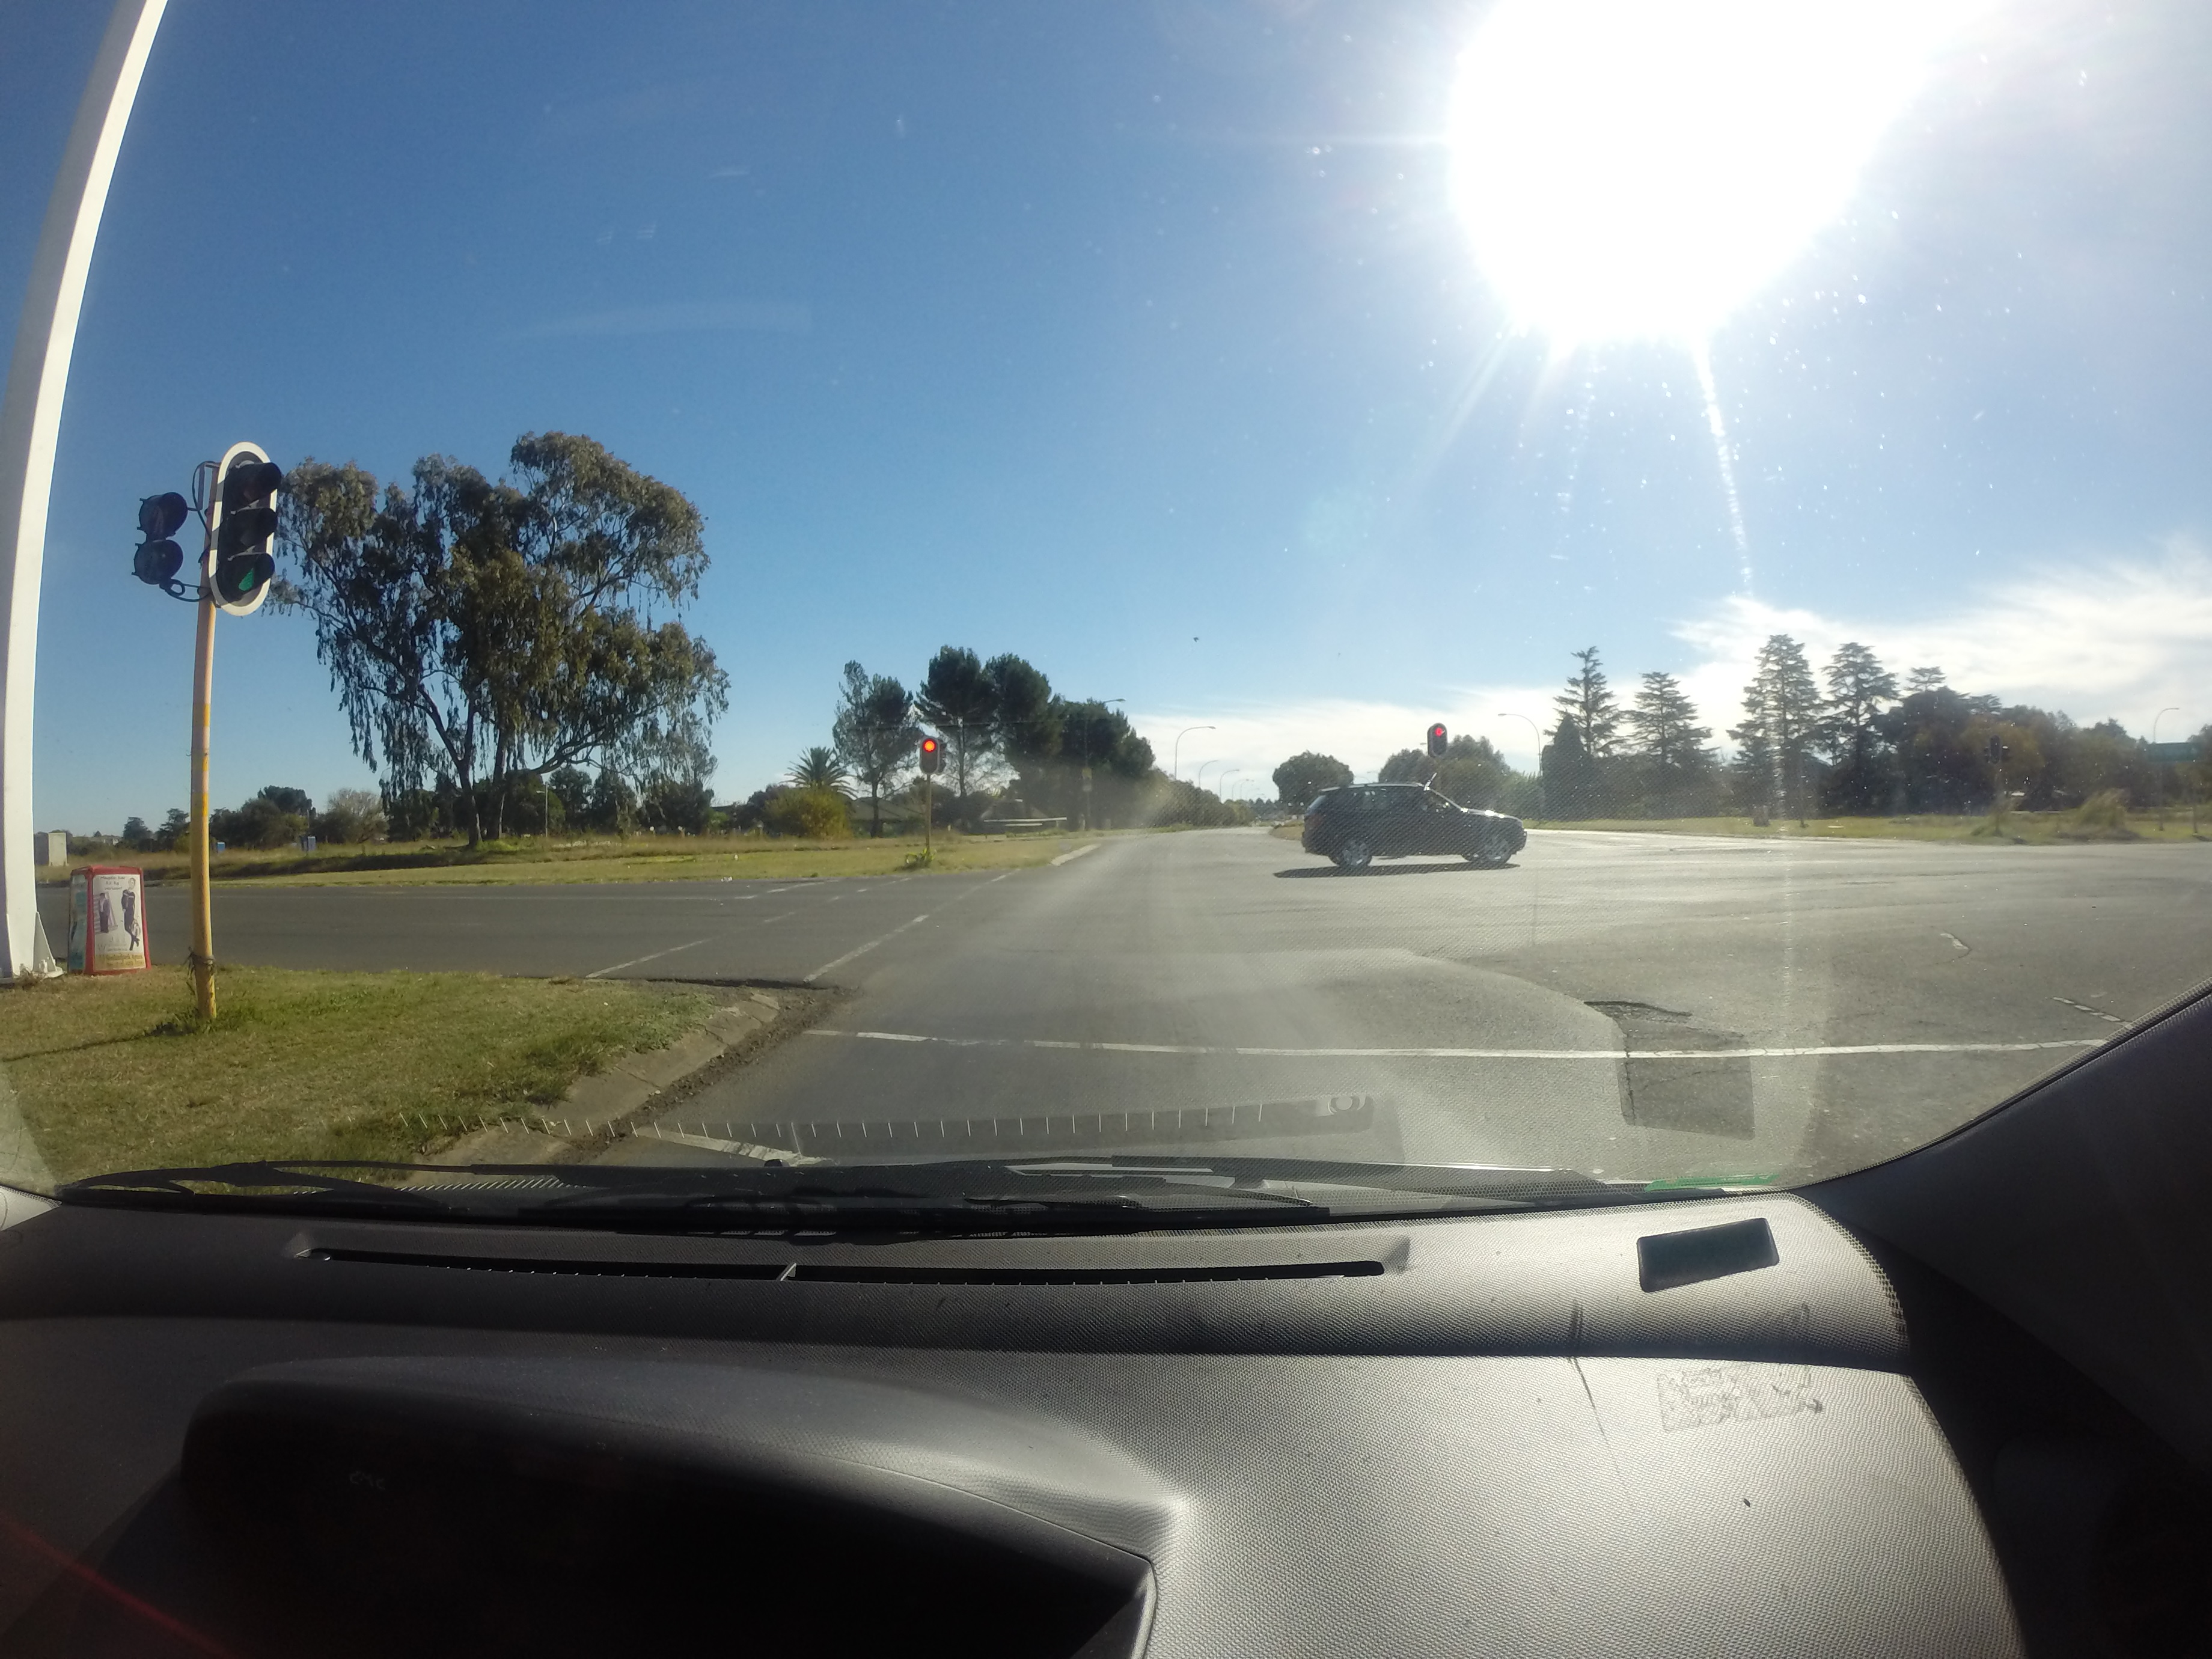pothole: (1581, 983, 1811, 1133)
